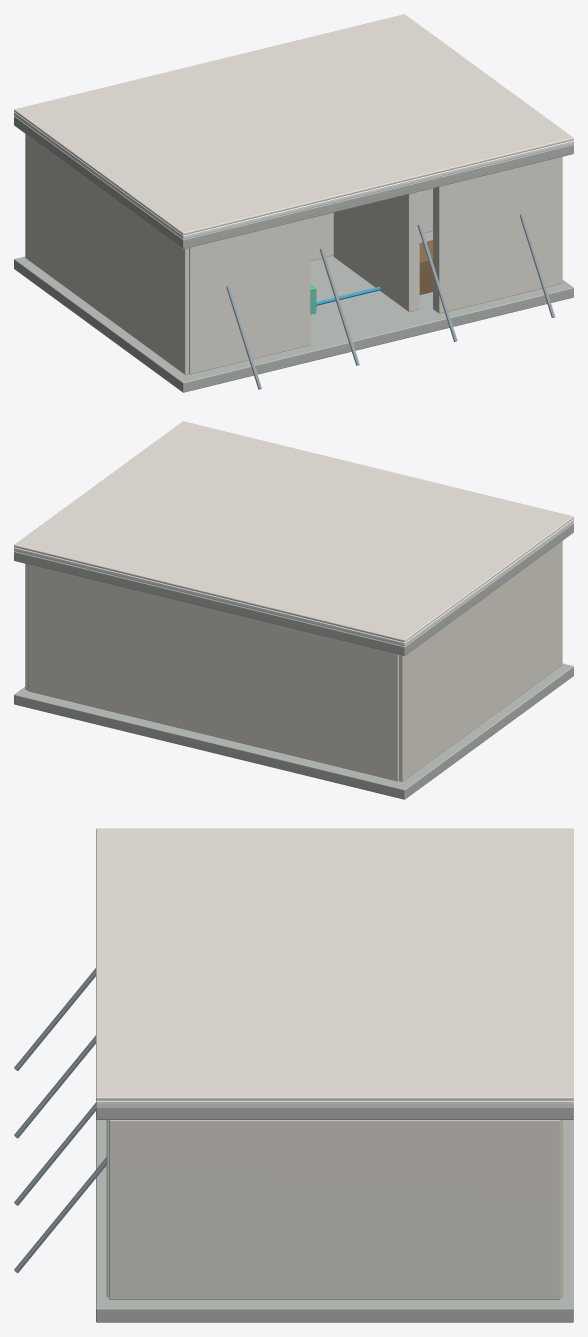
Rendered from building.glb.
The picture shows the model from 3 angles, top to bottom: view 1: azimuth 30°, elevation 25°; view 2: azimuth 150°, elevation 25°; view 3: azimuth 270°, elevation 25°; orthographic projection. The views are drawn at different scales.
Parts seen in each view (by area): view 1: Roof finish, Completed face 0, Completed face 4, Completed face 3, Raft illustration, Completed face 7, Roof slab, Roof insulation, Completed face 5, Kitchen worktop, Temporary brace.001, Temporary brace.002 (+2 smaller); view 2: Roof finish, Completed face 2, Completed face 0, Raft illustration, Roof slab, Roof insulation, Completed face 1; view 3: Roof finish, Completed face 1, Raft illustration, Roof slab, Roof insulation, Temporary brace.003, Temporary brace.002, Temporary brace.001, Temporary brace.
Part boxes in pixels (x1,y1,x2,y2): Roof finish: (14,14,573,235); Completed face 0: (25,134,188,374); Completed face 4: (433,157,559,313); Completed face 3: (189,218,310,374); Raft illustration: (14,231,573,392); Completed face 7: (333,191,419,311); Roof slab: (14,116,573,249); Roof insulation: (14,112,573,239); Completed face 5: (310,188,432,260); Kitchen worktop: (419,240,432,294); Temporary brace.001: (319,248,359,365); Temporary brace.002: (417,224,457,341); Roof finish: (14,421,573,642); Completed face 2: (28,564,398,781); Completed face 0: (399,541,562,781); Raft illustration: (14,663,573,799); Roof slab: (14,523,573,656); Roof insulation: (14,519,573,646); Completed face 1: (25,564,28,690); Roof finish: (96,828,573,1100); Completed face 1: (109,1120,560,1299); Raft illustration: (96,1119,573,1322); Roof slab: (96,1106,573,1119); Roof insulation: (96,1100,573,1106); Temporary brace.003: (14,1157,106,1272); Temporary brace.002: (14,1103,95,1205); Temporary brace.001: (14,1035,95,1138); Temporary brace: (14,968,95,1070).
Size of the model in its own units: 8 by 3.12 by 7.03.
